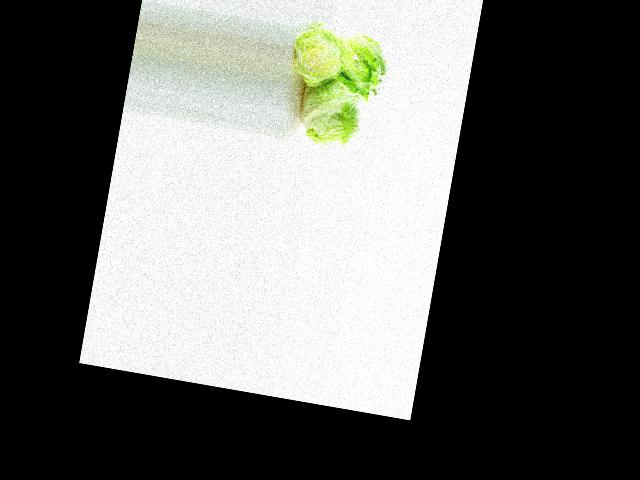lettuce: (291, 48, 397, 170)
